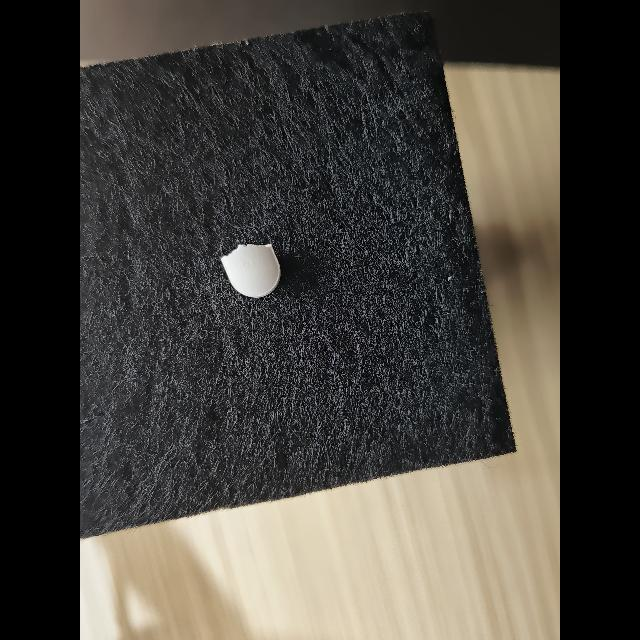Chipped Pill: (221, 244, 281, 298)
